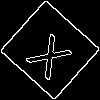X: (25, 25, 81, 82)
